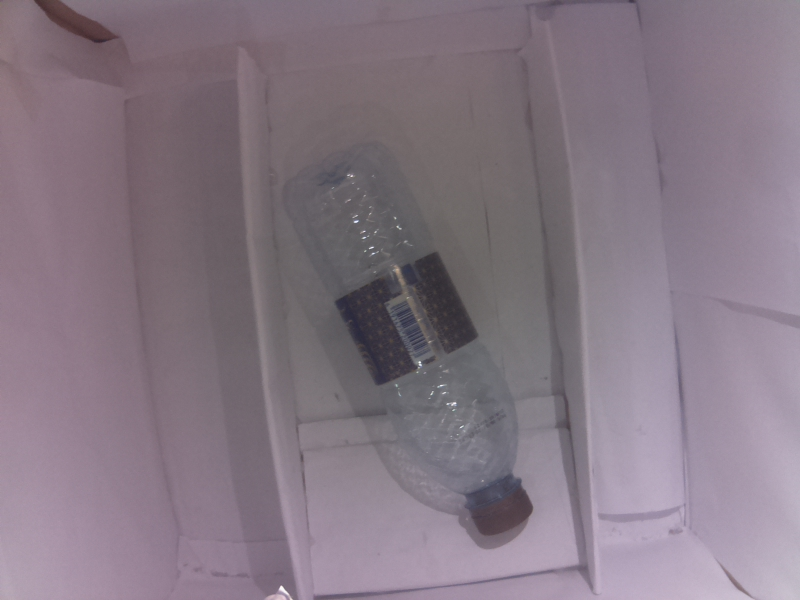botolplastik: (284, 138, 535, 536)
